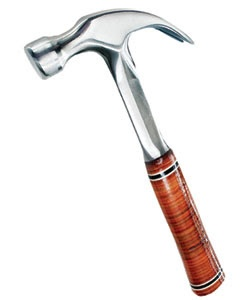hammer: (23, 8, 232, 296)
